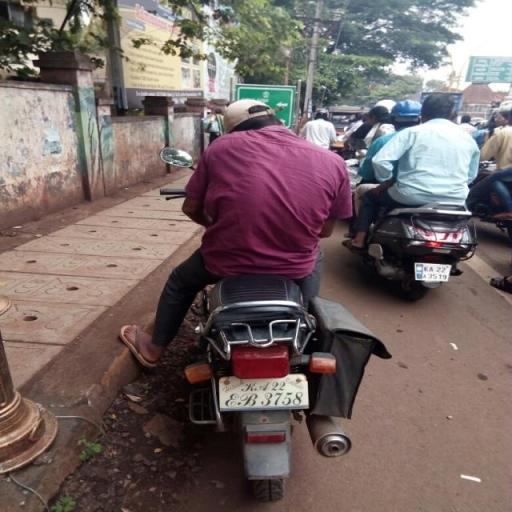bike: (147, 97, 394, 435)
numberplate: (215, 373, 310, 411)
withouthelmet: (226, 99, 278, 130)
